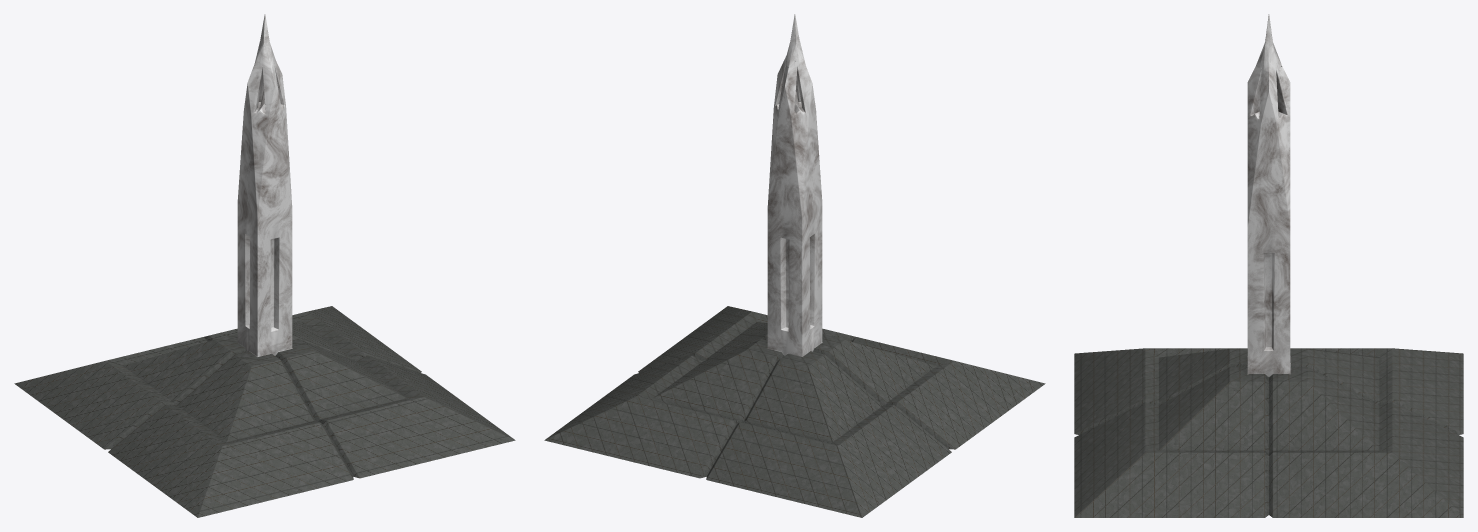
The model's file is oblisk.obj.
3 views of the same model, side by side, from view 1: azimuth 30°, elevation 25°; view 2: azimuth 150°, elevation 25°; view 3: azimuth 270°, elevation 25° (orthographic). The views are drawn at different scales.
Parts seen in each view (by area): view 1: oblisk_txt; view 2: oblisk_txt; view 3: oblisk_txt.
Boxes of the visible parts, x1,y1,x2,y2 form: oblisk_txt: (14, 14, 515, 517); oblisk_txt: (544, 14, 1045, 517); oblisk_txt: (1074, 14, 1463, 517).
Size of the model in its own units: 9.99 by 11.95 by 9.99.
Materials: 1 (1 with a texture image).
